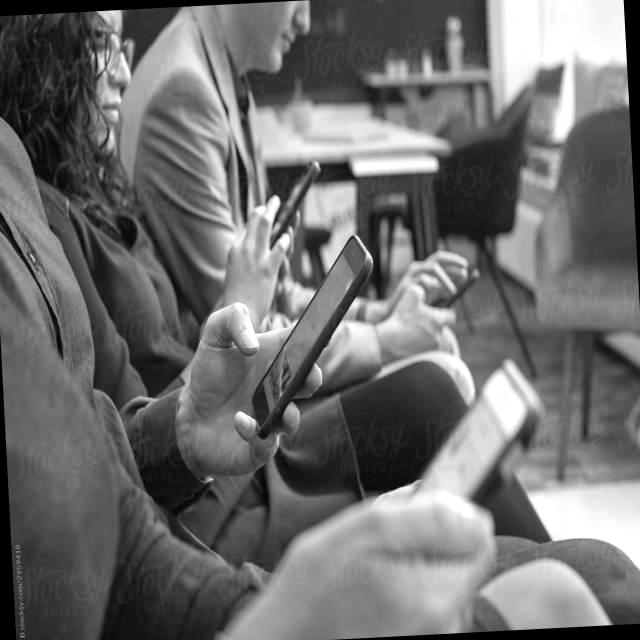phone: (242, 232, 382, 440), (402, 355, 548, 510), (264, 158, 326, 250), (426, 266, 482, 310)
